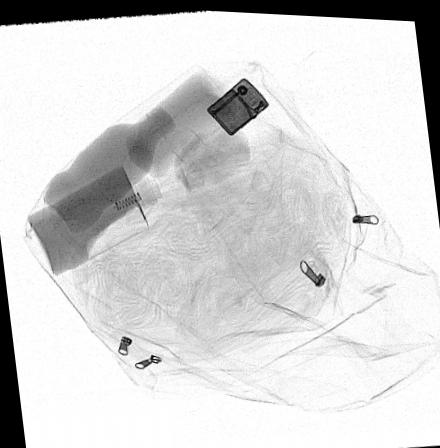Lighter: (207, 75, 269, 133)
